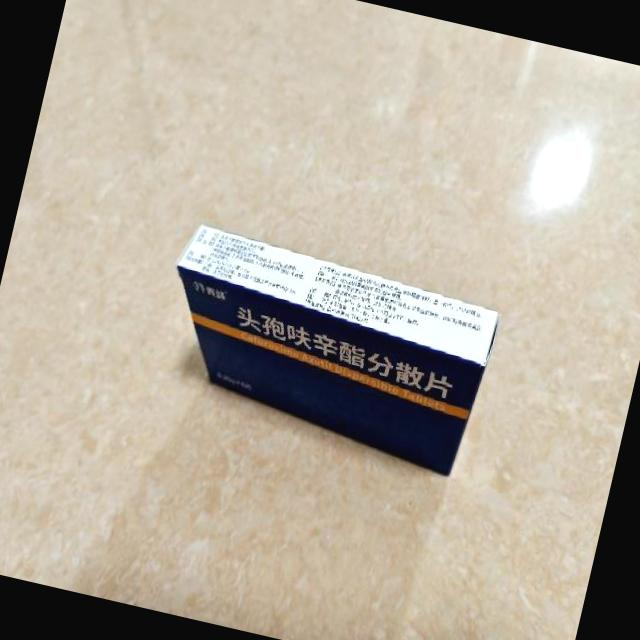box: (144, 220, 506, 480)
